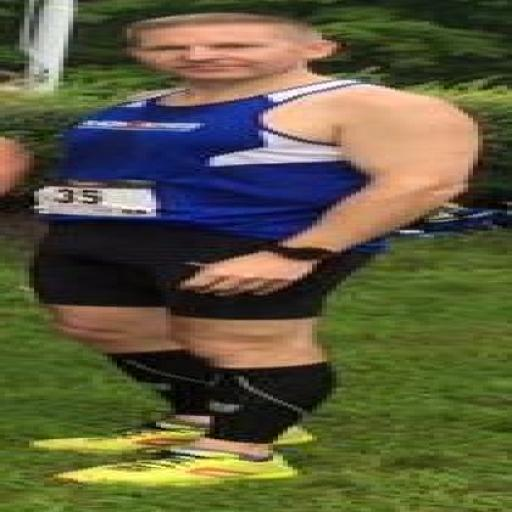person: (35, 14, 477, 485), (0, 138, 34, 195)
